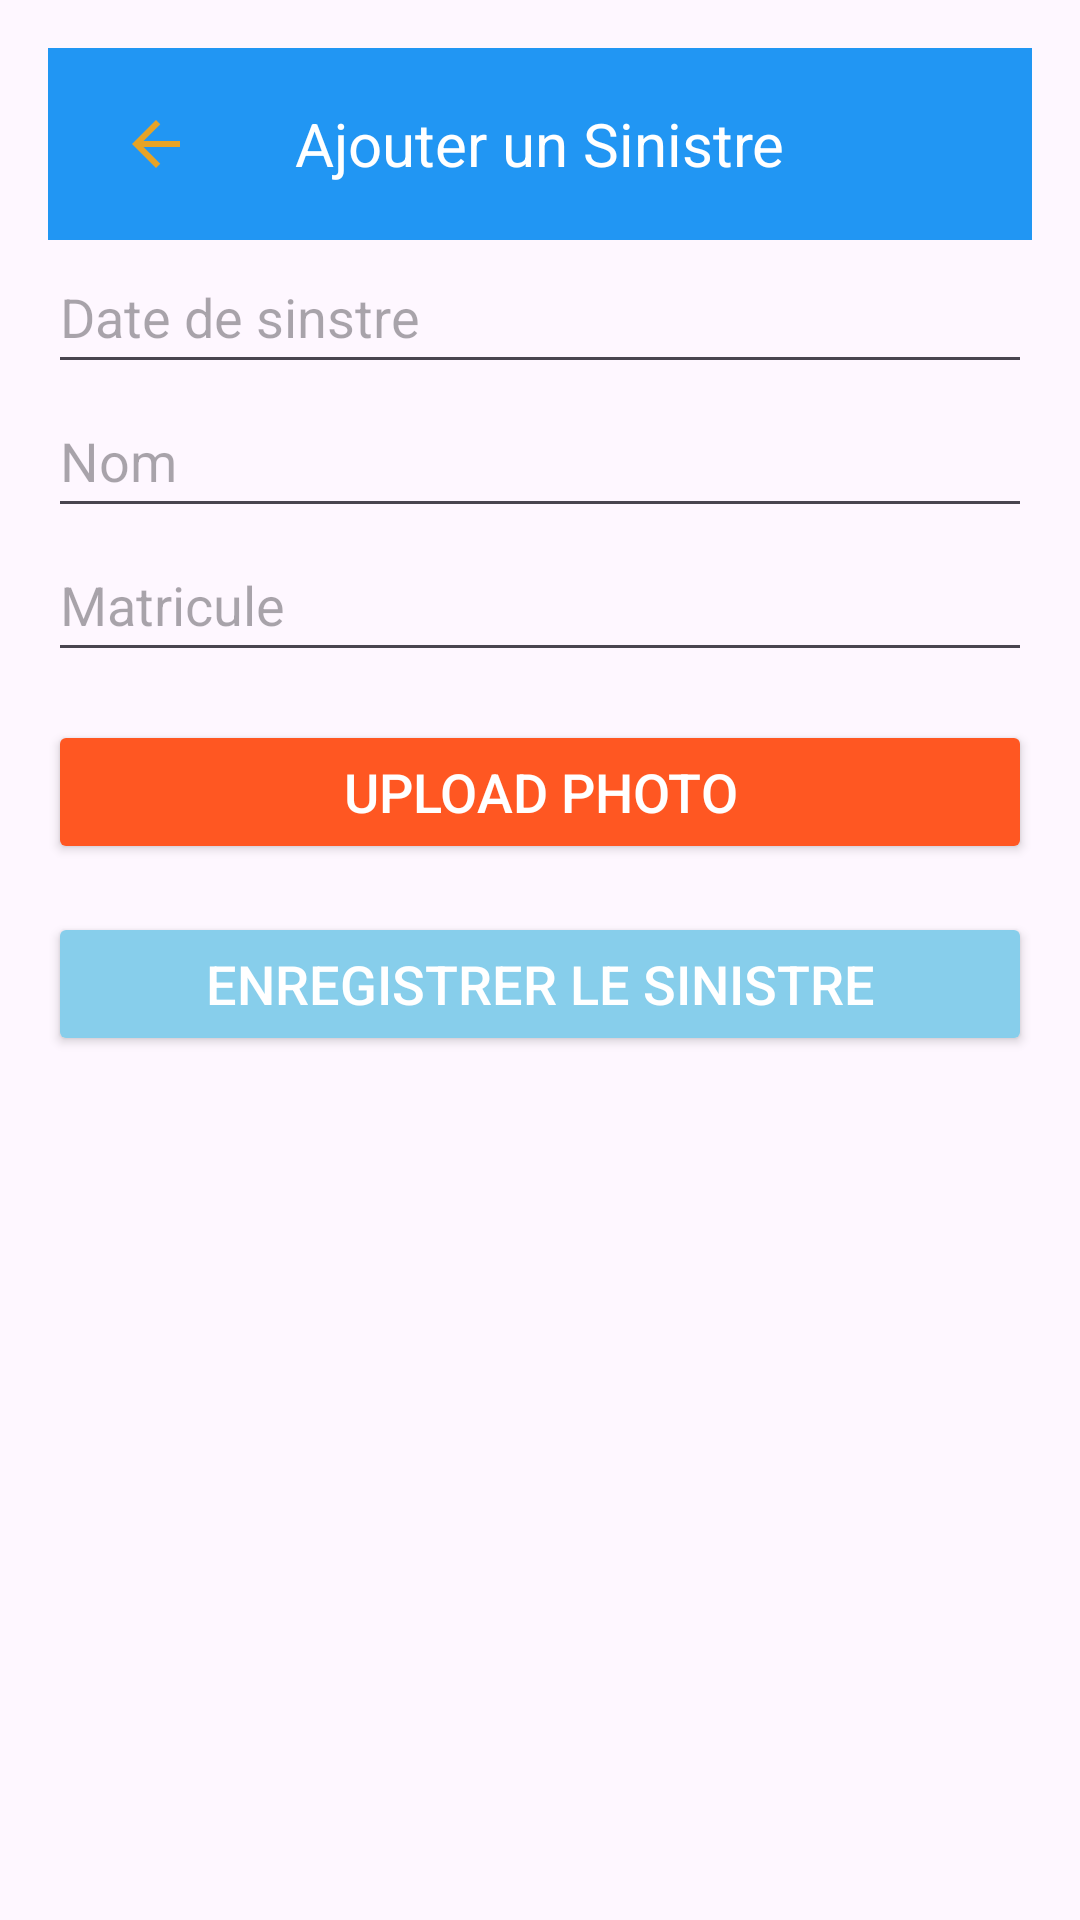

Icon click points for this 1080px x 1920px phone screenshot, format [x,y]:
Retour: [156,144]
